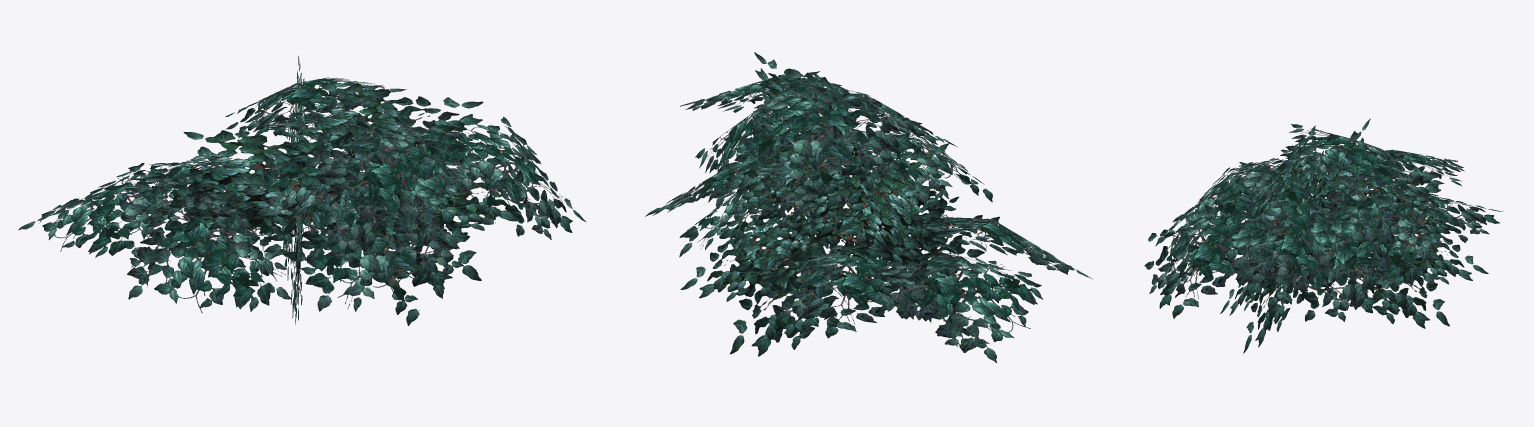
Rendered from shrb_dath_greybush_sm_l1.fbx.
3 renders of one model, left to right at view 1: azimuth 30°, elevation 25°; view 2: azimuth 150°, elevation 25°; view 3: azimuth 270°, elevation 25°, orthographic. The views are drawn at different scales.
Visible parts, largest first — view 1: mesh_node; view 2: mesh_node; view 3: mesh_node.
Part boxes in pixels (bbox=[...]): mesh_node: bbox=[18, 56, 586, 325]; mesh_node: bbox=[645, 52, 1091, 362]; mesh_node: bbox=[1144, 118, 1502, 353].
Size of the model in its own units: 3.59 by 2.28 by 3.26.
